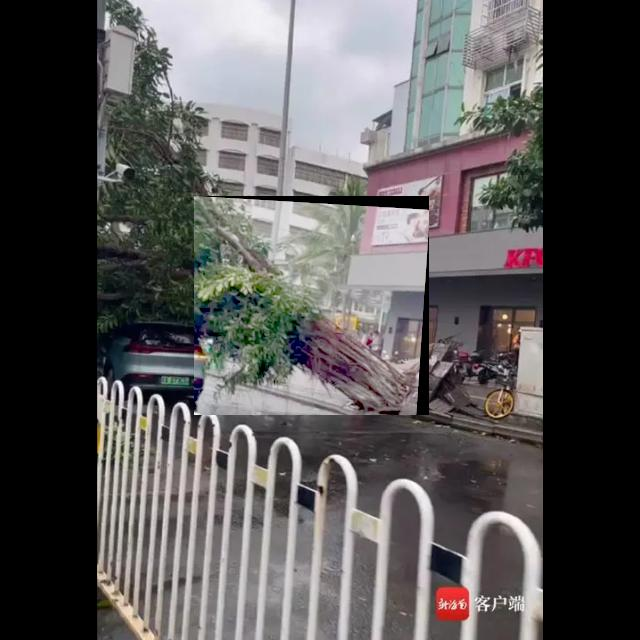Fallen Tree: (194, 196, 430, 416)
